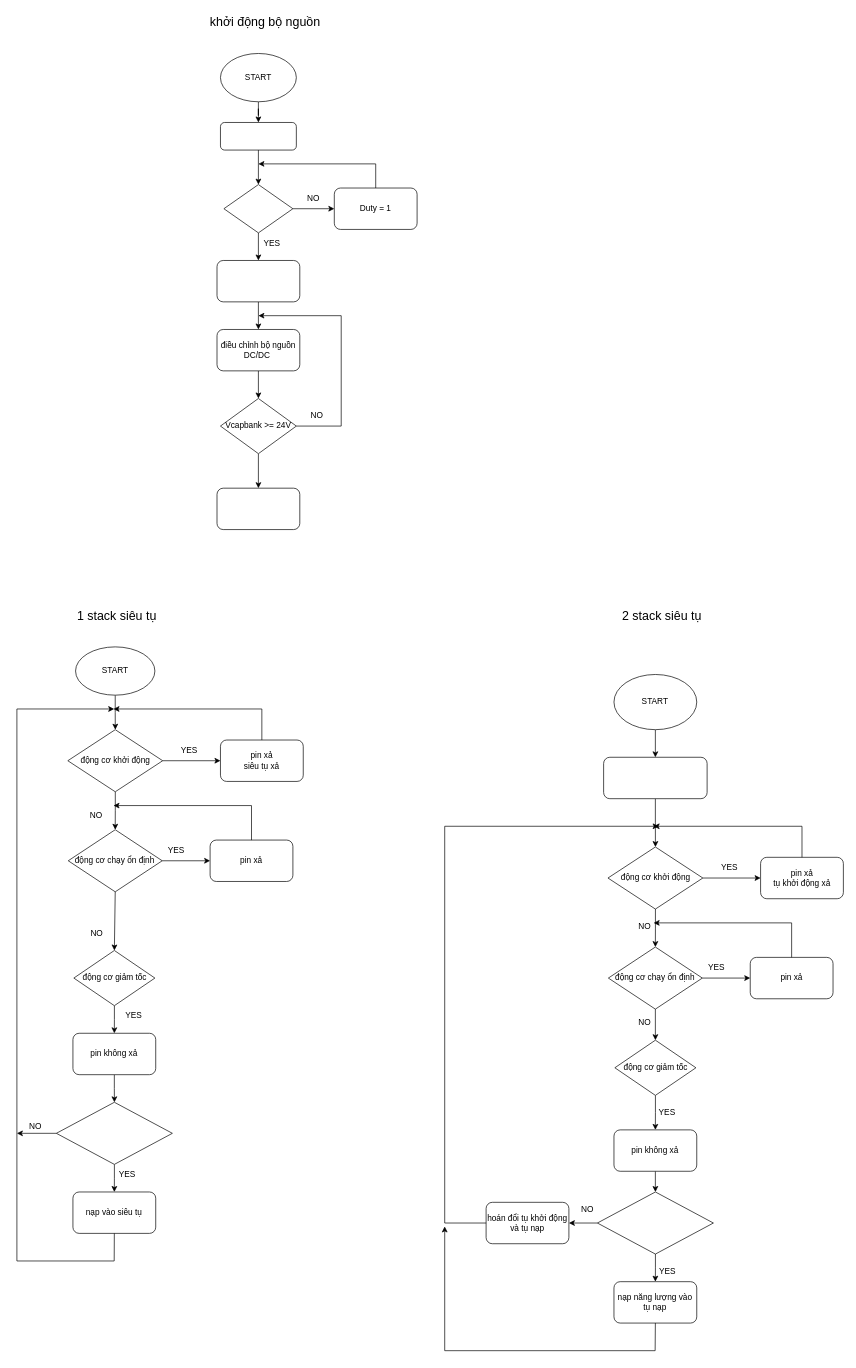
This 856x1368 diagram has some shape labels left out. The centre of each missing label's shape, as x and y in pixels:
"1 siêu tụ 100% dung lượng gọi là tụ khởi động 1 cái thì không gọi là tụ nạp" belongs at point (655, 778).
"chờ điện áp ổn định đóng tải" belongs at point (258, 508).
"delay 500 chu kỳ để điện áp ổn định" belongs at point (258, 281).
"dung lượng siêu tụ < 75%" belongs at point (114, 1133).
"dung lượng tụ nạp < 100%" belongs at point (655, 1222).
"V capbank = 0" belongs at point (258, 136).
"Vcapbank > 12V" belongs at point (258, 208).
